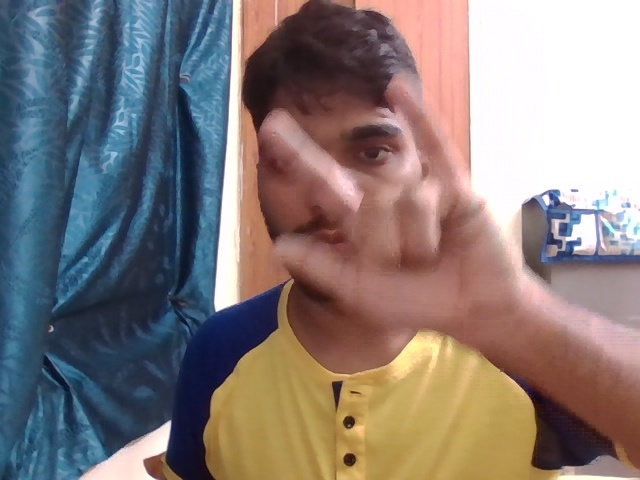I love you: (253, 58, 532, 381)
